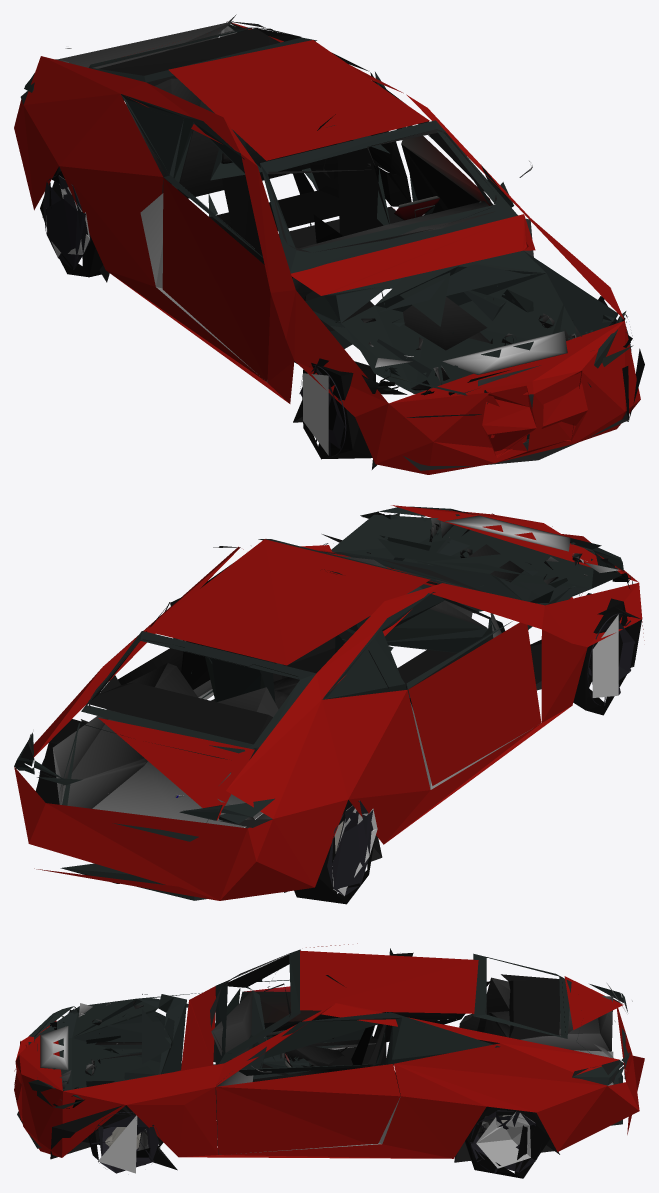
The model's file is sedan_bmw.glb.
3 renders of one model, top to bottom at view 1: azimuth 30°, elevation 25°; view 2: azimuth 150°, elevation 25°; view 3: azimuth 270°, elevation 25°, orthographic. The views are drawn at different scales.
Visible parts, largest first — view 1: Object_4; view 2: Object_4; view 3: Object_4.
Boxes of the visible parts, x1,y1,x2,y2 form: Object_4: (14,14,644,474); Object_4: (14,505,644,904); Object_4: (14,943,644,1178).
Bounding box in the file's own units: 1.98 × 1.32 × 4.75.
